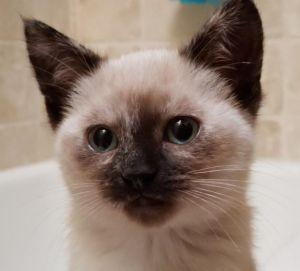siamese: (20, 1, 277, 255)
